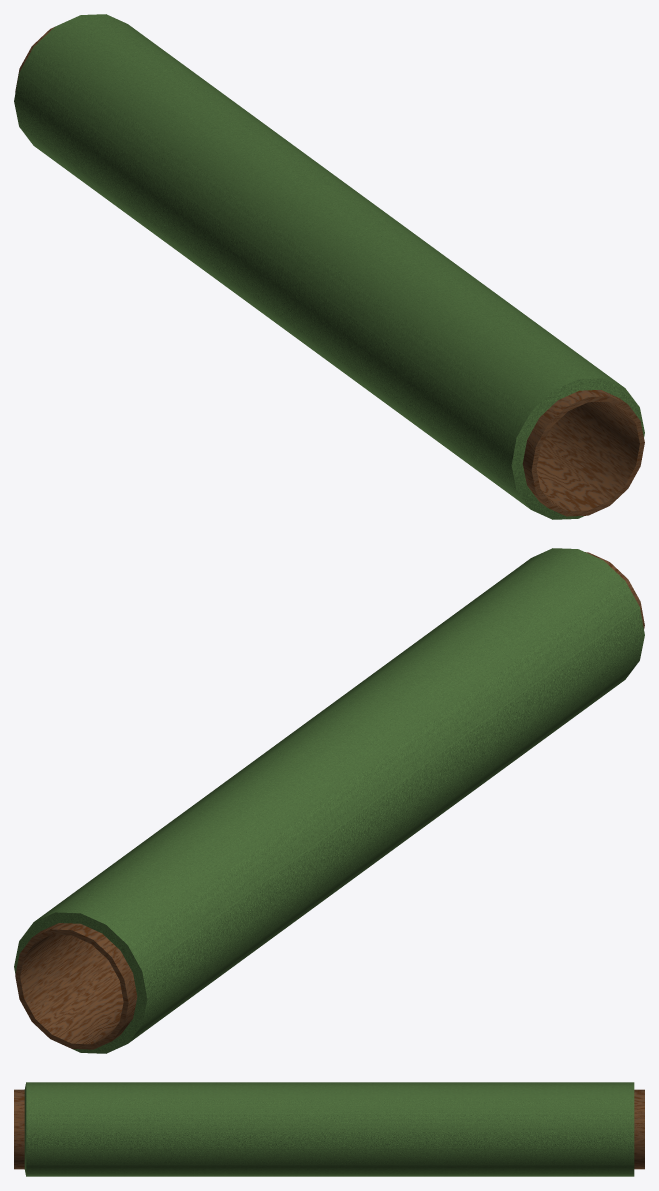
Rendered from Rouleau_ferme_sous_deroule_1_final.glb.
The picture shows the model from 3 angles, top to bottom: view 1: azimuth 30°, elevation 25°; view 2: azimuth 150°, elevation 25°; view 3: azimuth 270°, elevation 25°; orthographic projection. The views are drawn at different scales.
Visible parts, largest first — view 1: Cylinder.006; view 2: Cylinder.006; view 3: Cylinder.006.
Boxes of the visible parts, box(x1,y1,x2,y2) form: Cylinder.006: box(14, 14, 644, 519); Cylinder.006: box(14, 548, 644, 1053); Cylinder.006: box(14, 1082, 644, 1176).
Size of the model in its own units: 0.0542 by 0.0542 by 0.3631.
Materials: 1 (1 with a texture image).
